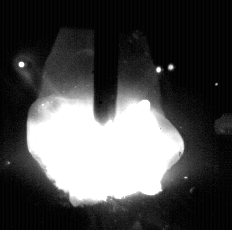arame: (94, 0, 119, 125)
poca: (25, 0, 182, 230)
